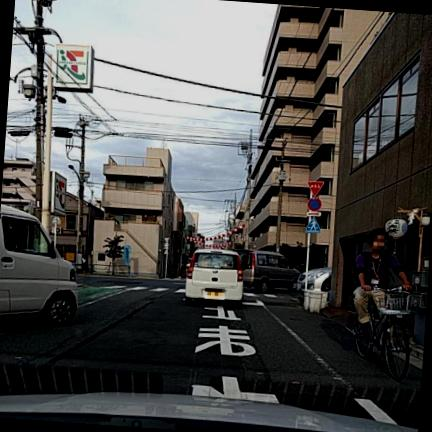Road: (0, 276, 421, 427)
